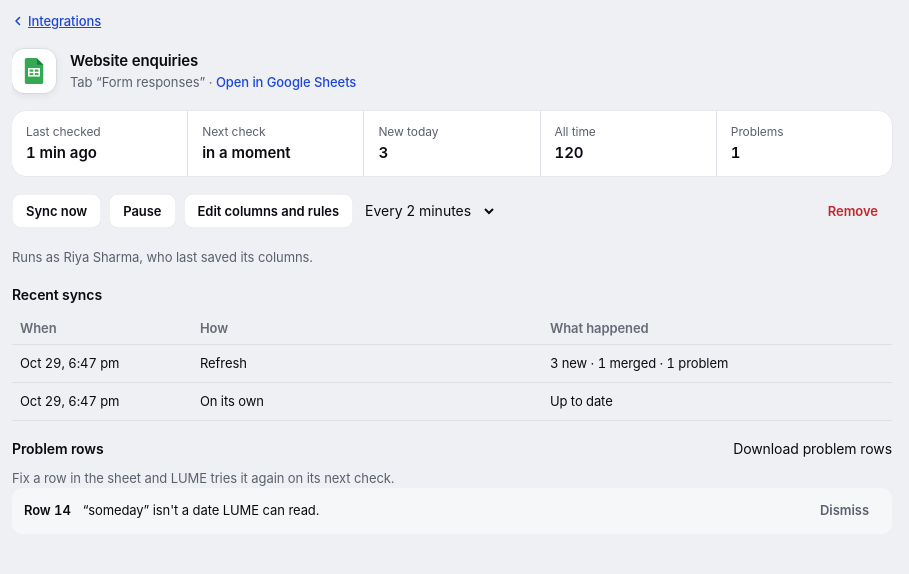
Test: a sheet's page › a failed action says why beside the actions, and the page stays
This screenshot has width=909, height=574.
Click the button "Pause". click: coordinates (142, 211)
box: x1=109 y1=194 x2=176 y2=228
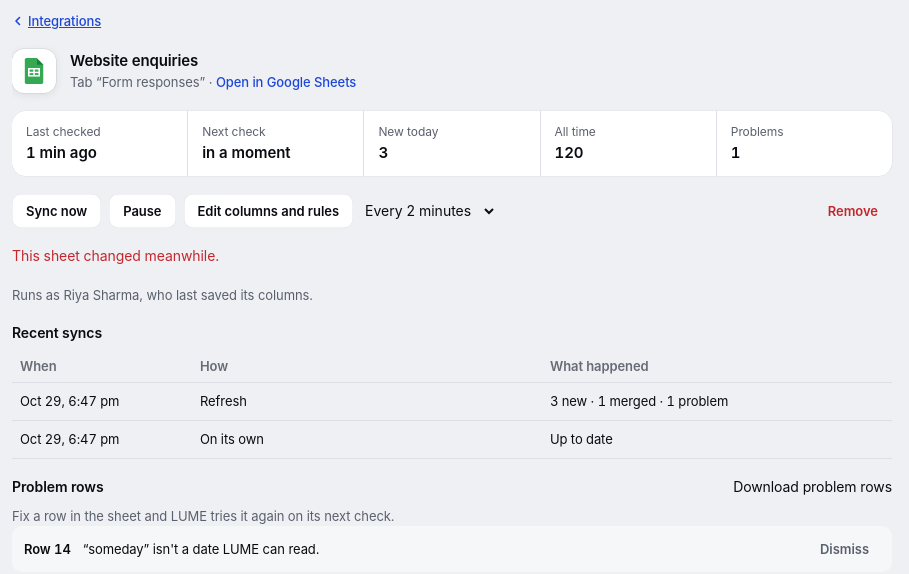
Expected: the heading "Website enquiries" is shown, x1=70 y1=50 x2=198 y2=70
Expected: the message reads "This sheet changed meanwhile.", x1=12 y1=247 x2=219 y2=264
